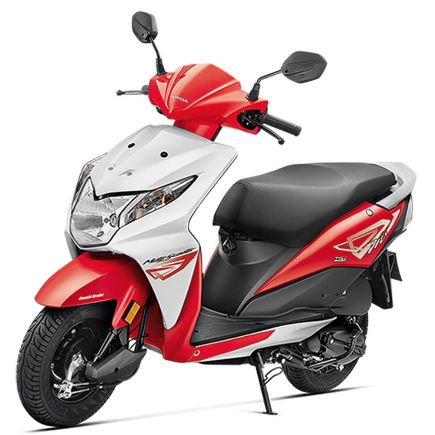bike: (14, 11, 414, 429)
